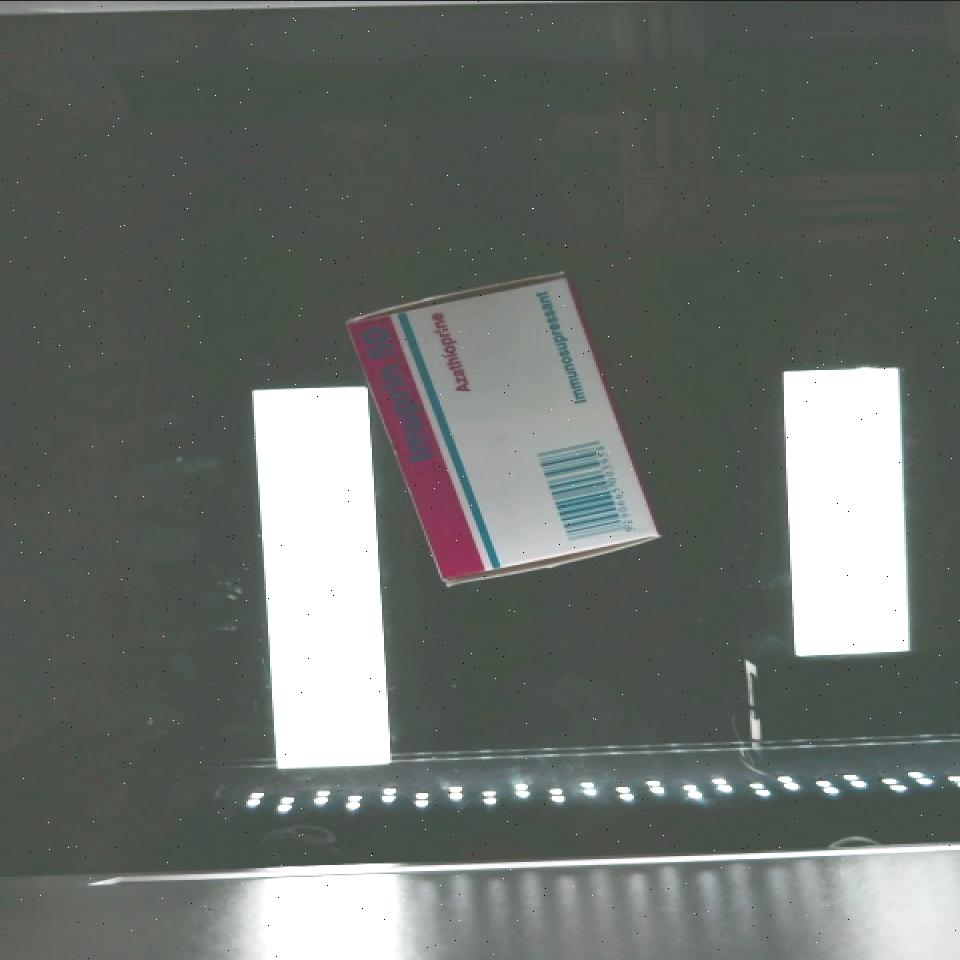medicine_box: (344, 248, 660, 608)
medicine_label_obb: (341, 301, 455, 485)
